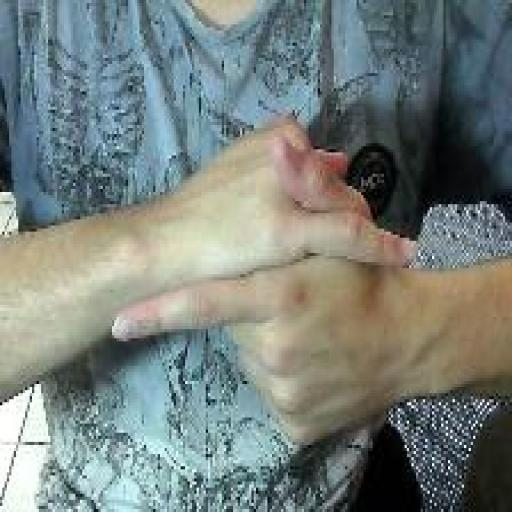U -hare-: (106, 111, 422, 450)
